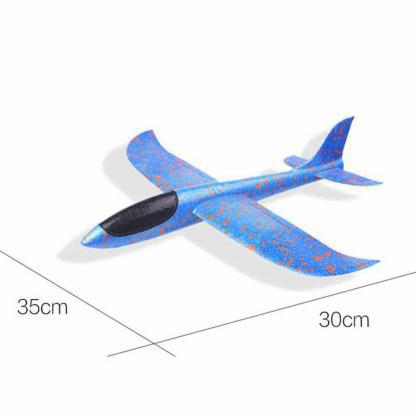CIV_Plane: (68, 112, 388, 283)
